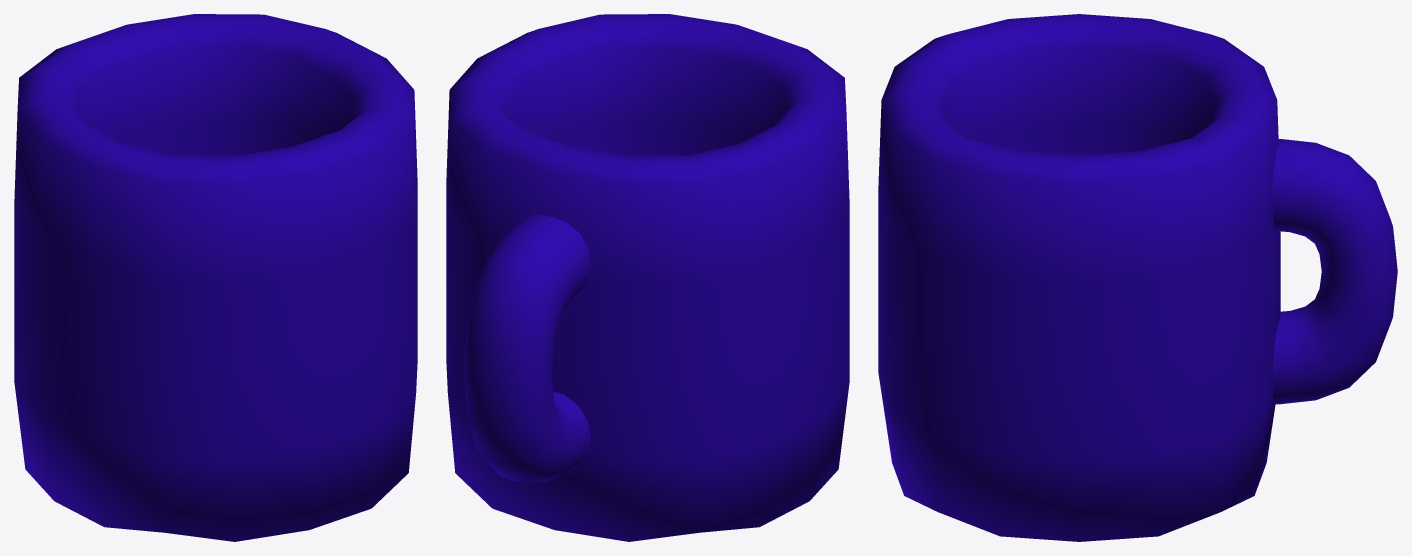
The model's file is Blue_mug.dae.
3 views of the same model, side by side, from view 1: azimuth 30°, elevation 25°; view 2: azimuth 150°, elevation 25°; view 3: azimuth 270°, elevation 25° (orthographic).
Visible parts, largest first — view 1: Cup_Blue; view 2: Cup_Blue; view 3: Cup_Blue.
Boxes of the visible parts, x1,y1,x2,y2 form: Cup_Blue: (14,14,417,541); Cup_Blue: (446,14,849,541); Cup_Blue: (878,14,1397,541).
Bounding box in the file's own units: 0.1797 × 0.2321 × 0.1906.
